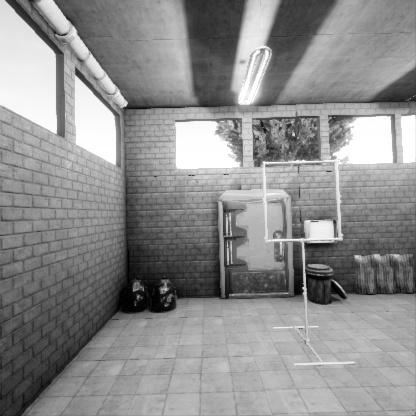gate: (262, 176, 347, 259)
